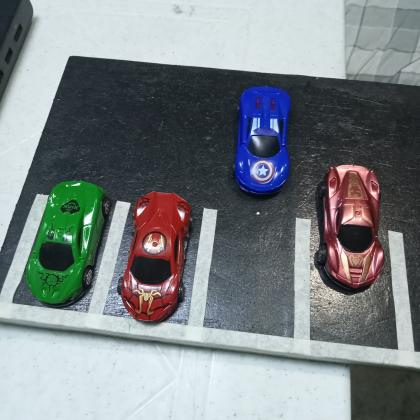Car: (25, 178, 111, 305), (116, 190, 195, 325), (318, 162, 386, 290), (230, 84, 292, 196)
